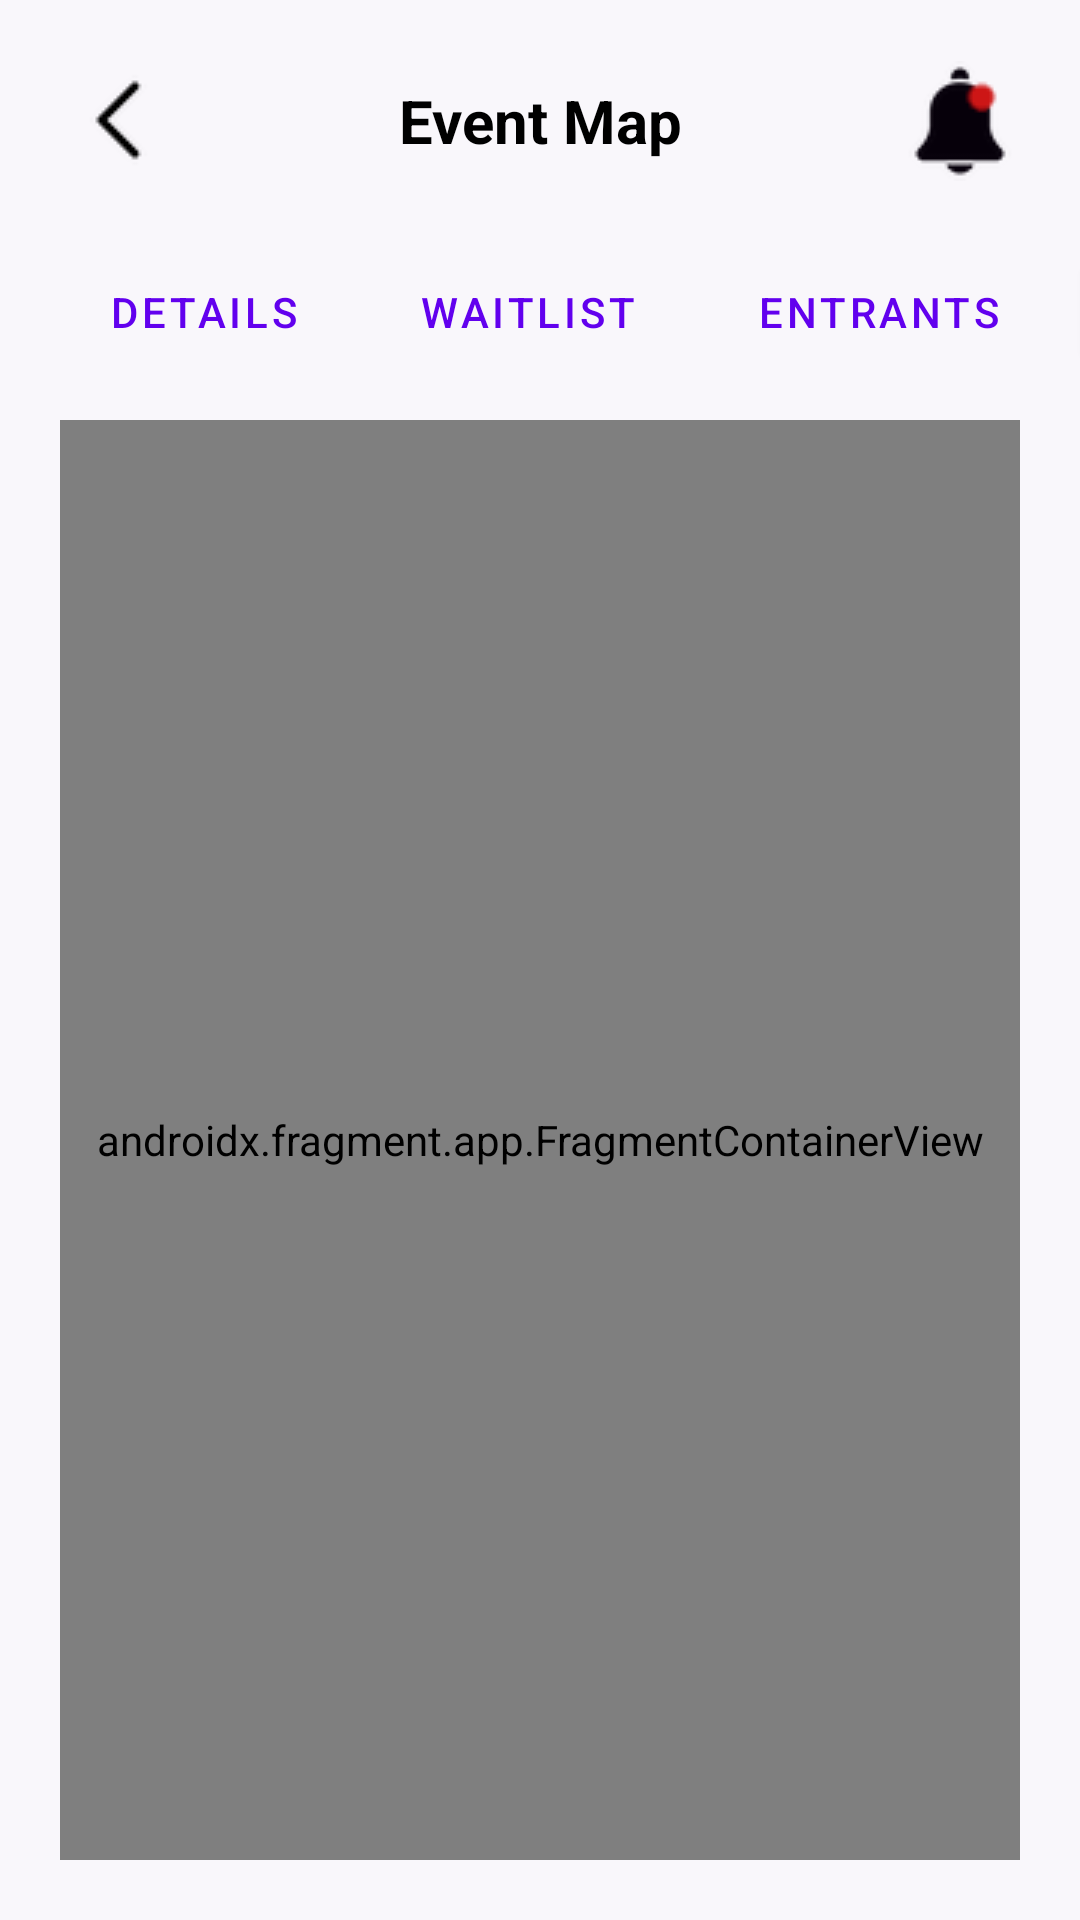

Screen size 1080 × 1920. Icon name, then its center in pixels as [x,y]:
left arrow: [118,120]
notification popular: [960,121]
